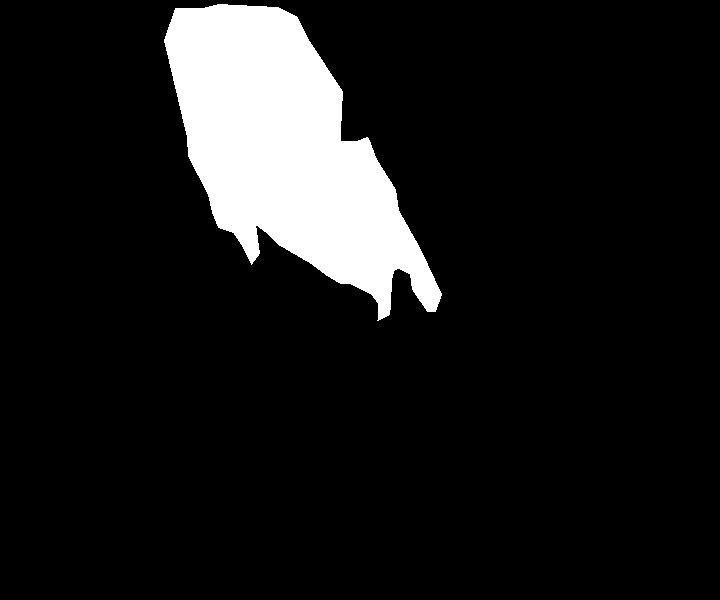Fire: (159, 7, 443, 327)
